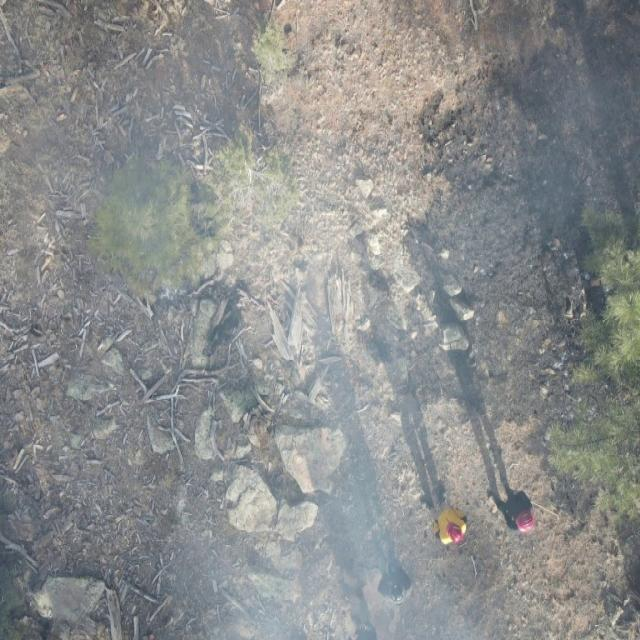fire: (348, 377, 360, 388), (344, 359, 353, 371)
smoke: (2, 0, 640, 640)
